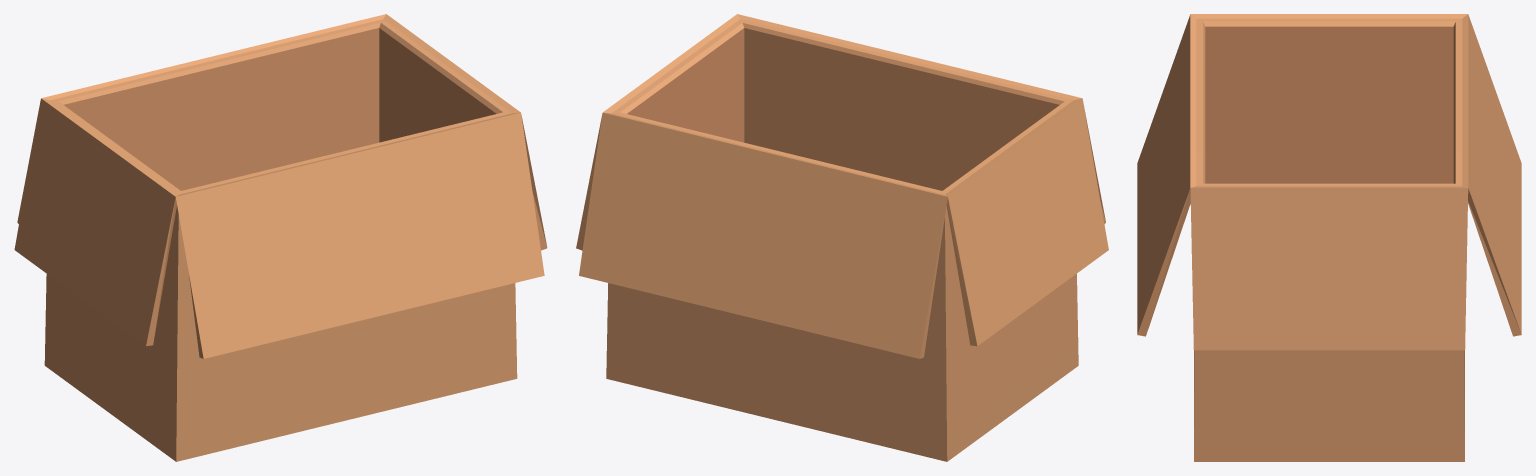
Rendered from cardboard_box6.fbx.
The picture shows the model from 3 angles, left to right: view 1: azimuth 30°, elevation 25°; view 2: azimuth 150°, elevation 25°; view 3: azimuth 270°, elevation 25°; orthographic projection. The views are drawn at different scales.
Parts seen in each view (by area): view 1: cardboard_box6; view 2: cardboard_box6; view 3: cardboard_box6.
Boxes of the visible parts, x1,y1,x2,y2 form: cardboard_box6: (14, 14, 547, 461); cardboard_box6: (576, 14, 1108, 461); cardboard_box6: (1137, 14, 1521, 461).
Size of the model in its own units: 37.48 by 23.8 by 30.13.
